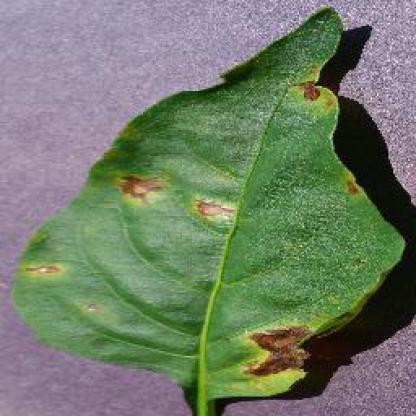bad leaf: (232, 9, 385, 165), (212, 288, 378, 414), (22, 219, 133, 364), (105, 161, 239, 264), (314, 166, 416, 244)
